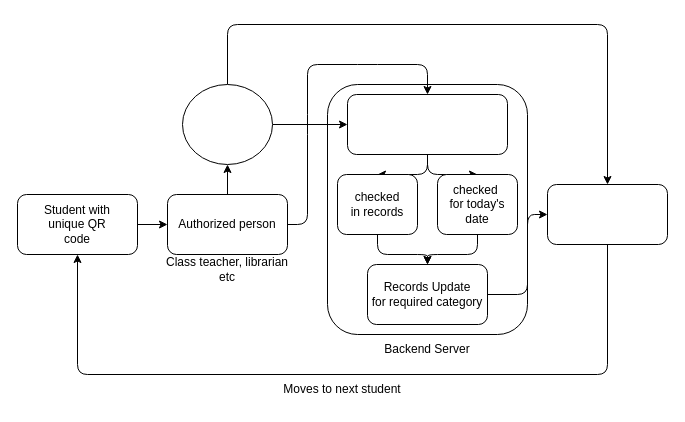
Some shapes in this 685 by 422 pixel diagram are drawn without their labels. Each missing label, with the box of its shape:
Logs in once: (182, 84, 272, 164)
QR code is read and decoded by the systern: (346, 94, 508, 154)
Update status displayed on CLI: (546, 184, 668, 244)
